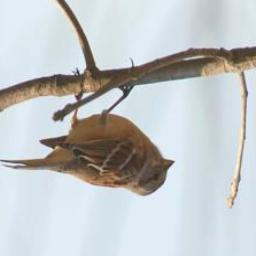Sparrow: (0, 58, 177, 199)
